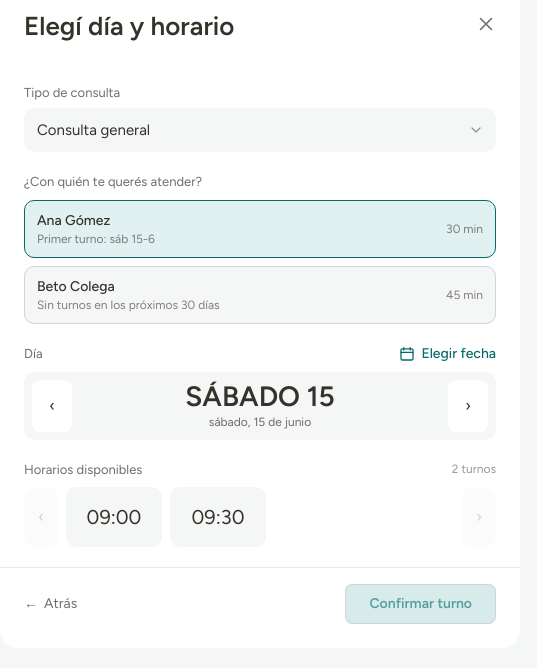
Scenario: PantallaDiaHora — panel de calendario mensual (3.8) › un día con turnos es seleccionable, elige la fecha y cierra el panel
Click the button "Elegir fecha" at x=448, y=354, box [399,344,496,364]
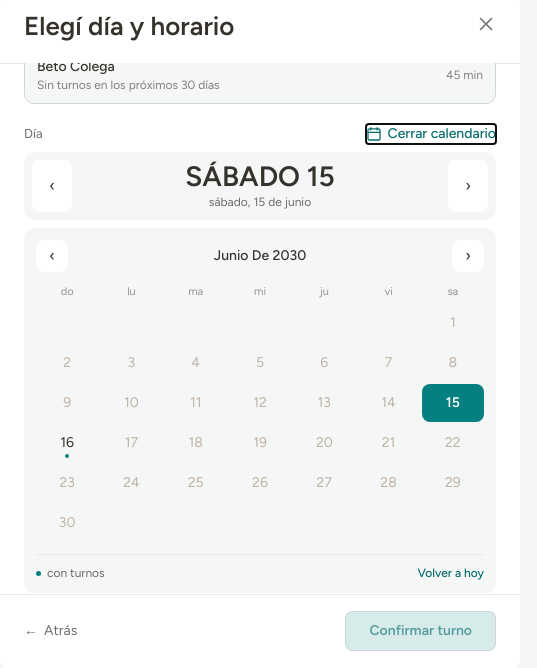
Click the button "16" at x=67, y=443, box [36,424,98,462]
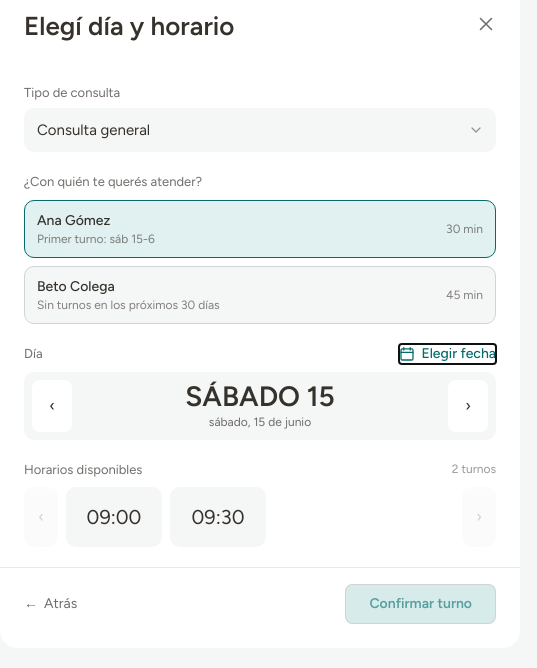
Now the button "Cerrar calendario" is gone
